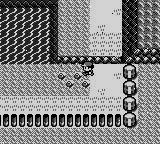captura: (1, 9, 50, 64)
main: (81, 61, 94, 76)
mo: (1, 0, 58, 63)
no-caminable: (122, 0, 160, 64), (1, 113, 122, 127), (122, 64, 138, 128)
salto: (56, 56, 122, 64)
